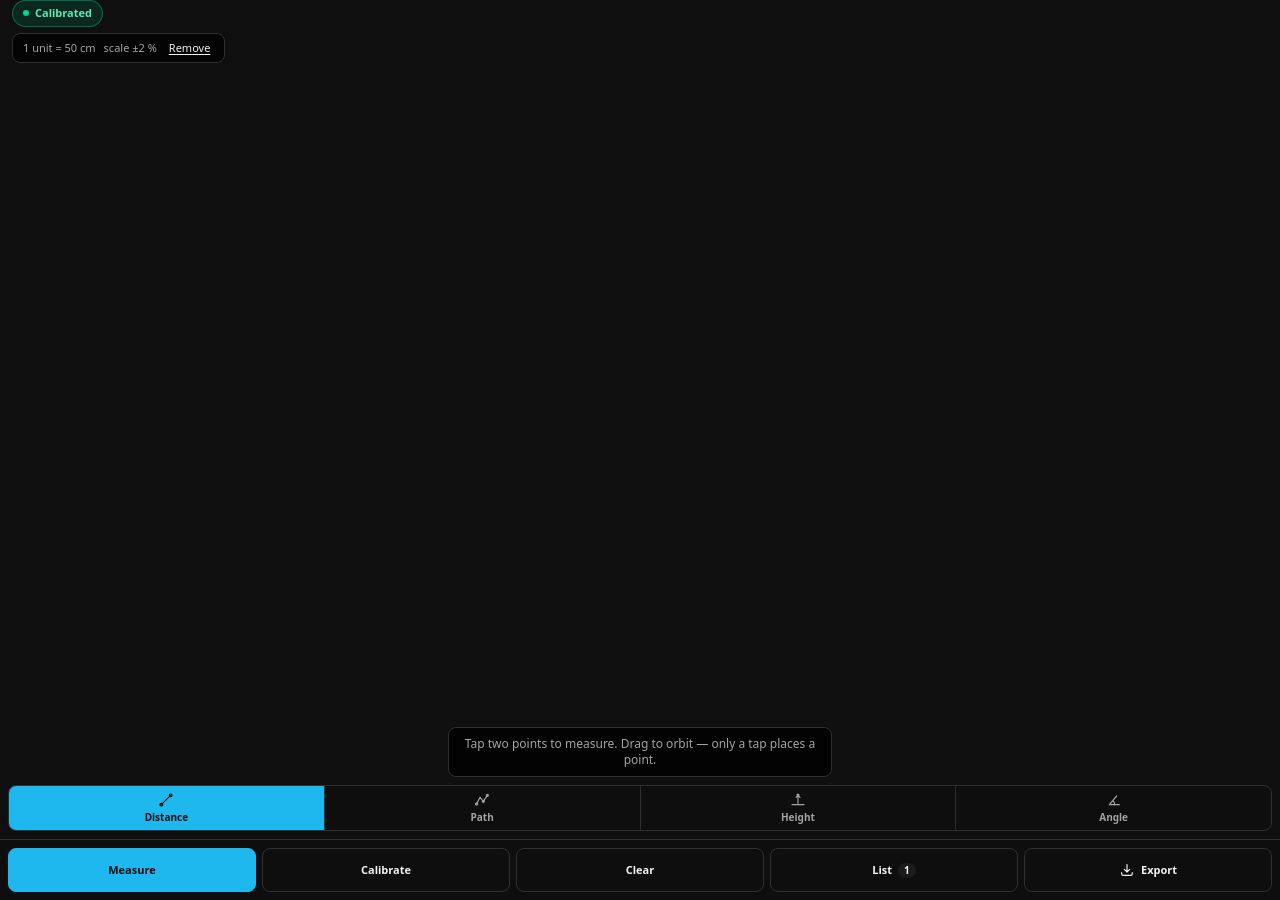
Test case: uncertainty in the UI › lists a measurement with its ± once the picks reported their quality
The width and height of the screenshot is (1280, 900).
Click the button "List 1" at [894, 870], box [770,848,1018,892]
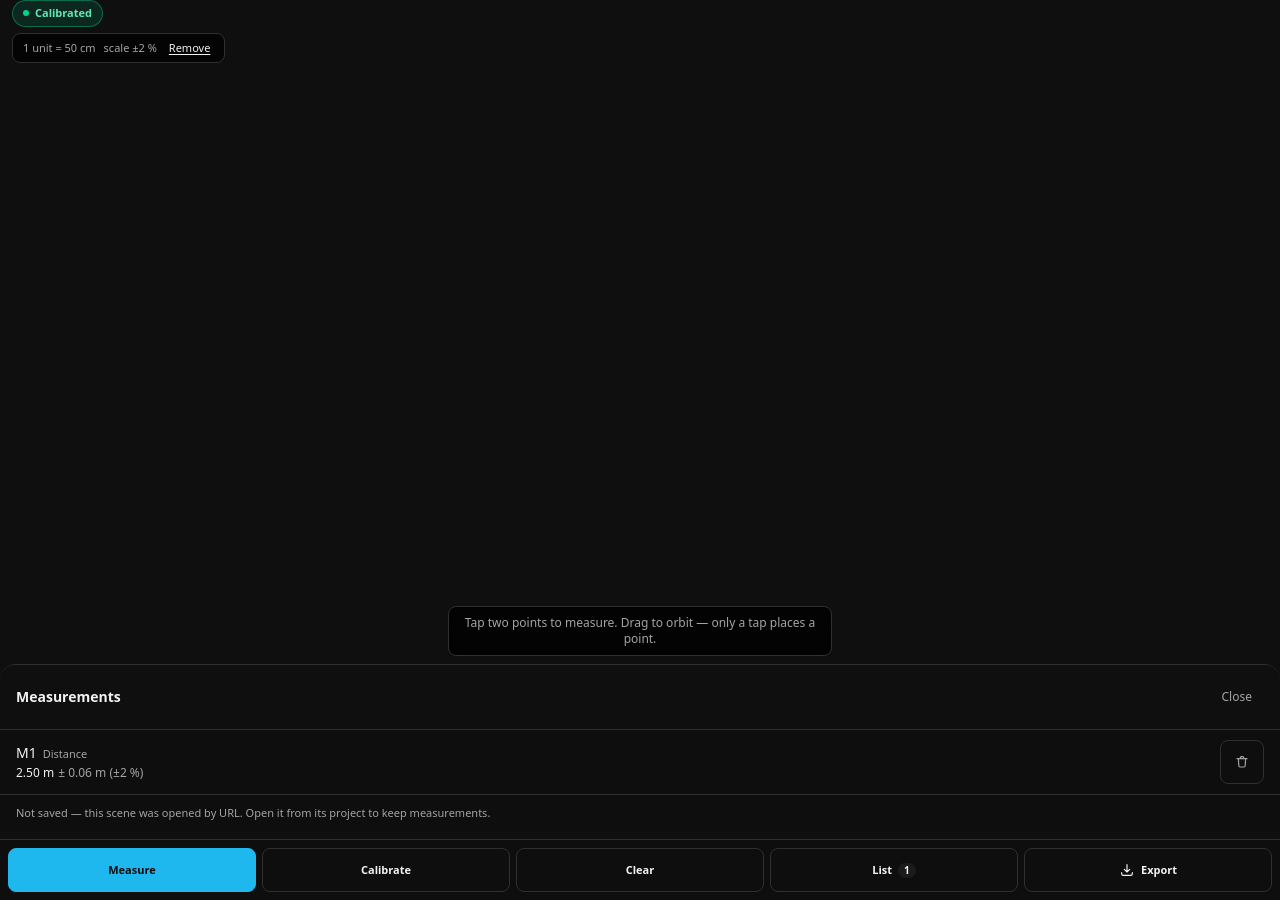
Expected: the text "2.50 m" is shown, [16,764,54,780]
Expected: the text "± 0.06 m (±2 %)" is shown, [58,764,144,780]
